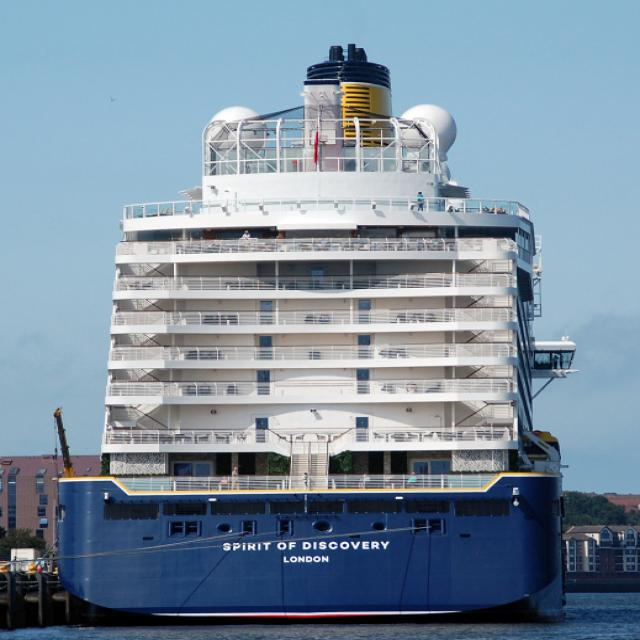cruises: (56, 34, 593, 615)
